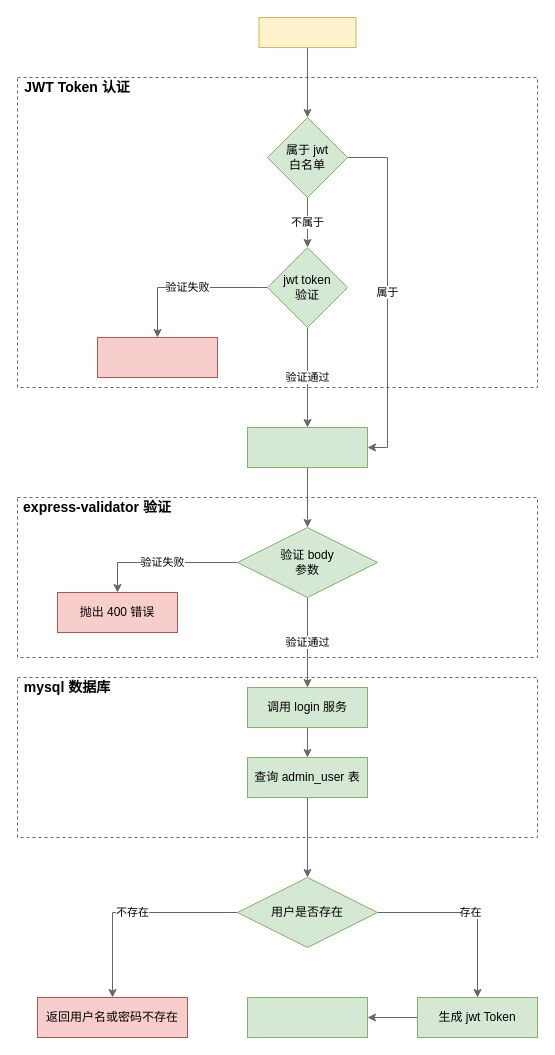
The diagram is 555 pixels wide and 1055 high, and some of its shapes have lost their labels. Here are the shapes that lost their labels. From the top down, the centre of each, then its label:
At (307,32): "前段请求 API".
At (157,357): "拦截请求".
At (307,447): "调用请求 controller".
At (307,1017): "返回 Token 信息".
